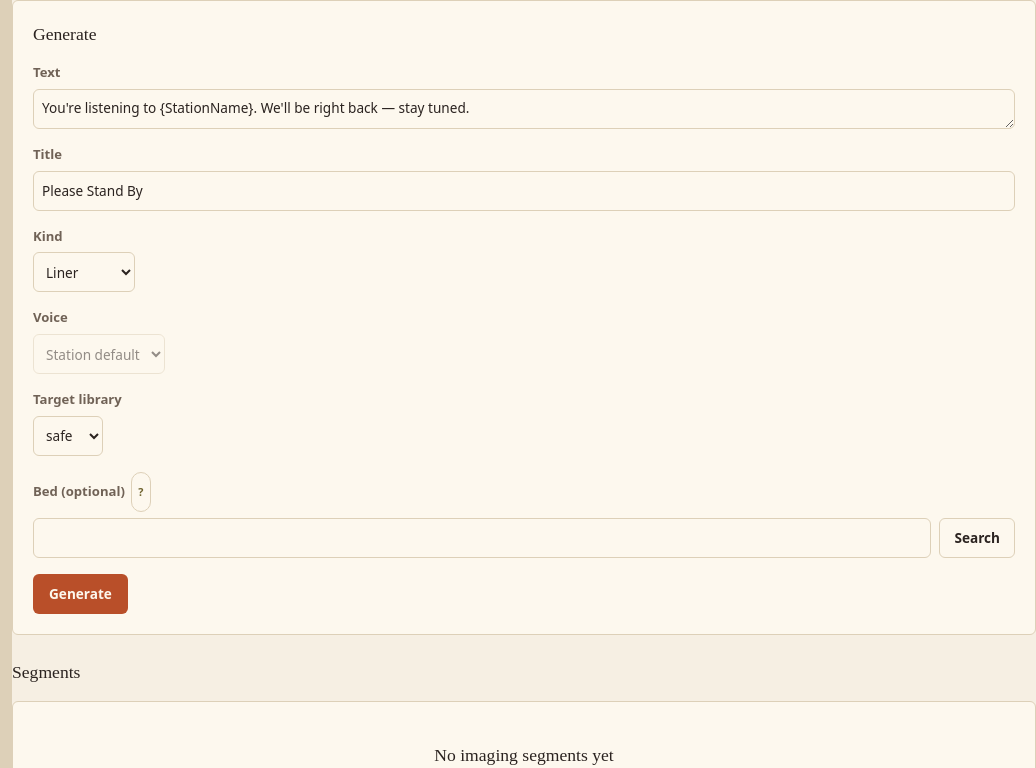
Test: Feature: Station sounds page › Scenario: failure re-enables the form with the error › renders the inline ProblemDetails error on a 400
Click the button "Generate" at (80, 594), box x1=33 y1=574 x2=128 y2=614
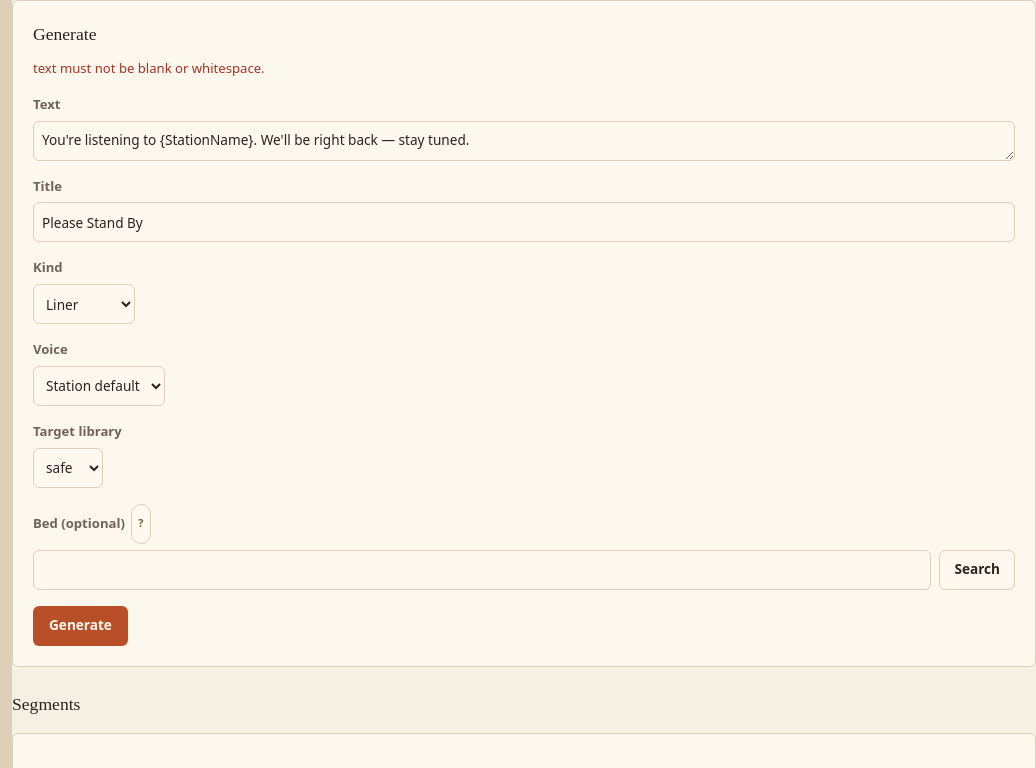
Now the message reads "text must not be blank or whitespace.", box x1=33 y1=59 x2=265 y2=77
